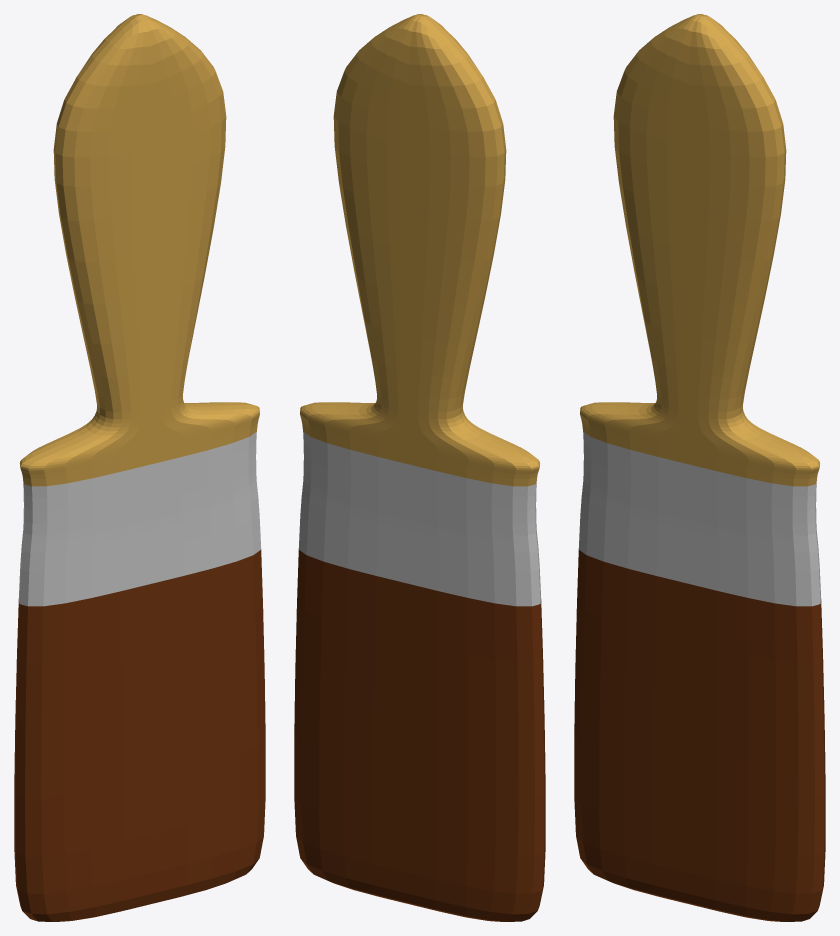
The model's file is paintBrushf.fbx.
3 renders of one model, left to right at view 1: azimuth 30°, elevation 25°; view 2: azimuth 150°, elevation 25°; view 3: azimuth 330°, elevation 25°, orthographic.
Visible parts, largest first — view 1: Cube; view 2: Cube; view 3: Cube.
Boxes of the visible parts, x1,y1,x2,y2 form: Cube: [14, 14, 265, 921]; Cube: [294, 14, 545, 921]; Cube: [574, 14, 825, 921].
Bounding box in the file's own units: 137 × 466 × 28.98.
